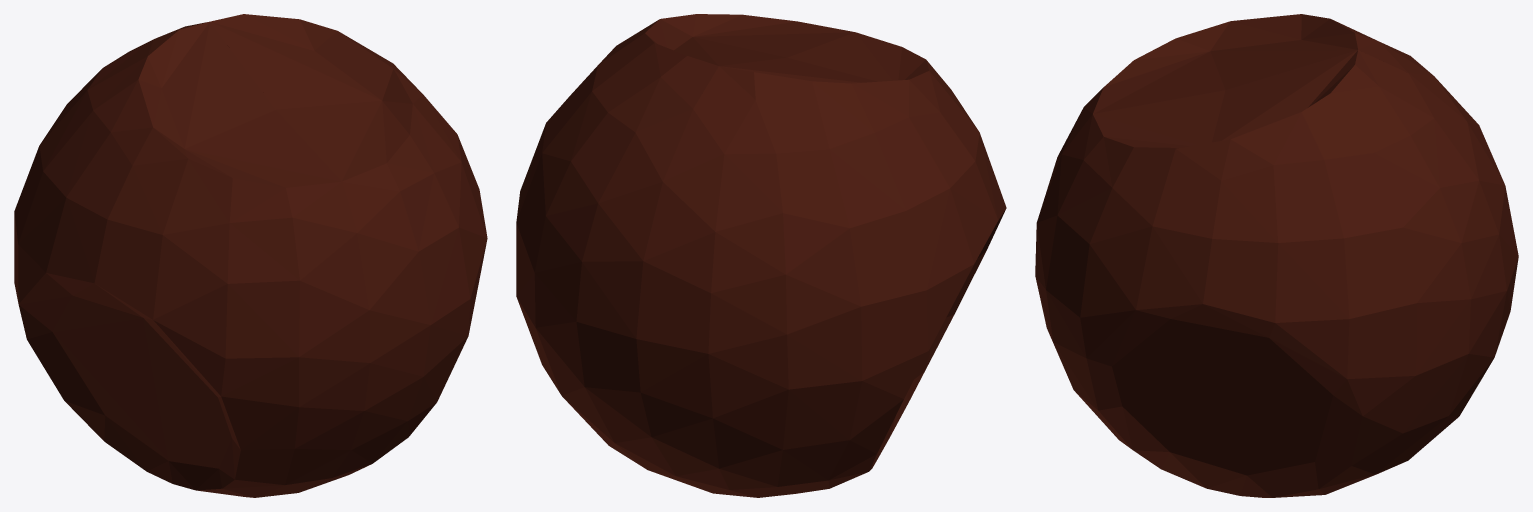
Rendered from quaffle.obj.
The picture shows the model from 3 angles, left to right: view 1: azimuth 30°, elevation 25°; view 2: azimuth 150°, elevation 25°; view 3: azimuth 270°, elevation 25°; orthographic projection. The views are drawn at different scales.
Visible parts, largest first — view 1: Body; view 2: Body; view 3: Body.
Boxes of the visible parts, left/top/right/bottom form: Body: left=14, top=14, right=487, bottom=497; Body: left=516, top=14, right=1006, bottom=497; Body: left=1035, top=14, right=1518, bottom=497.
Bounding box in the file's own units: 1.97 × 1.95 × 2.
